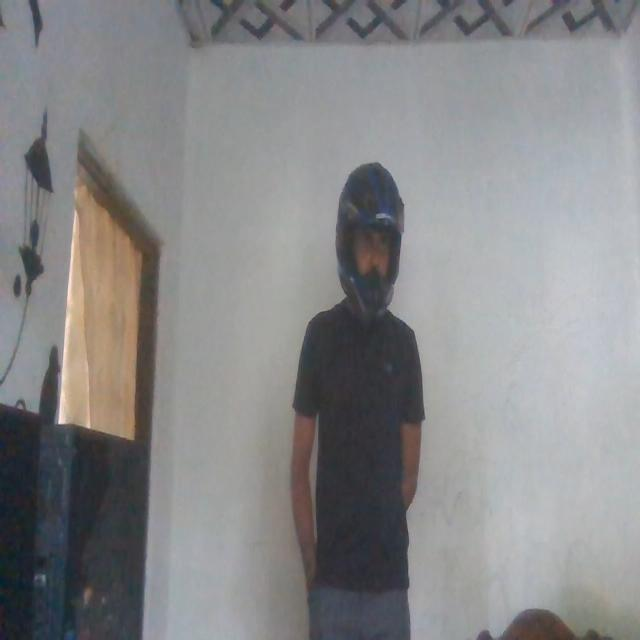Helmet_Wearer: (333, 163, 407, 334)
Person: (289, 166, 423, 640)
